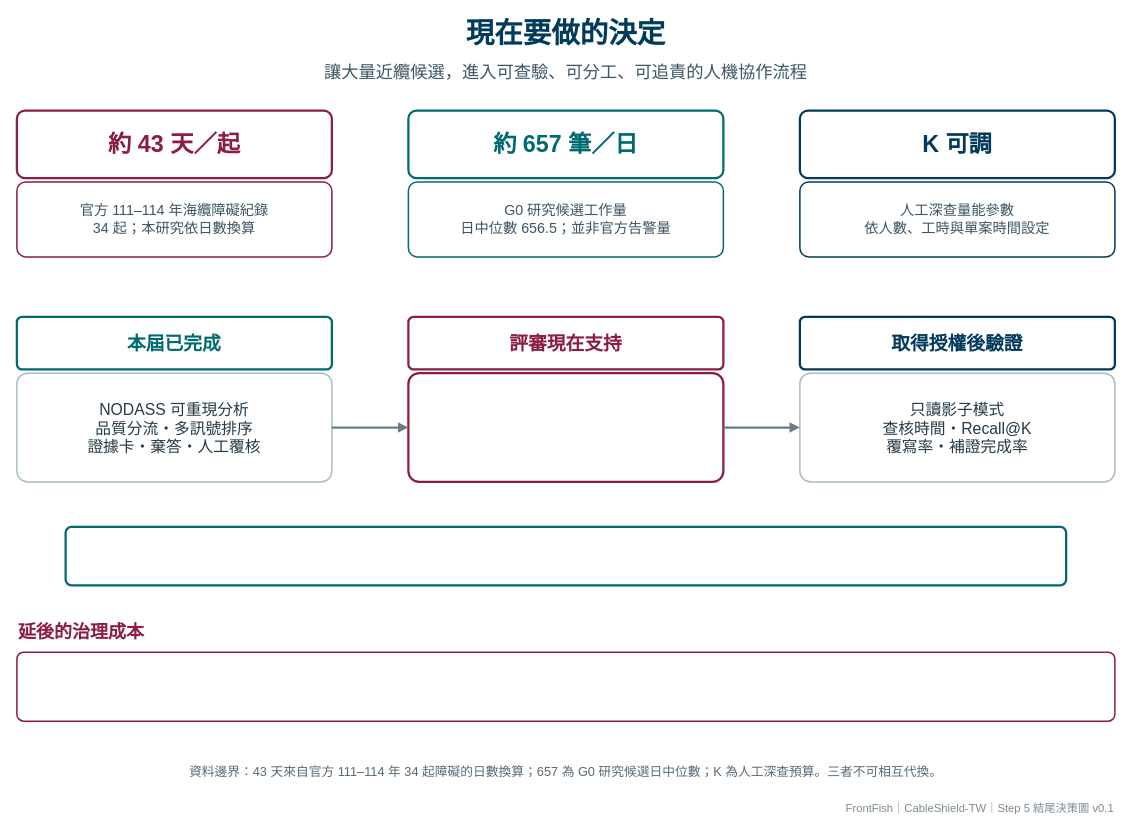
This 1131x830 diagram has some shape labels left out. Each missing label, with the box of its shape:
AI 整理候選、排序與證據提示 ｜ 人員查核、定性、處置並承擔權責: (64, 525, 1067, 586)
FrontFish／CableShield-TW 成為本屆 NODASS 海洋資料應用示範方案: (407, 372, 724, 483)
若工作仍停留在增加告警或模型分數，大量候選中的查核順序、證據缺口與責任界線仍會懸而未決。: (16, 651, 1115, 722)
